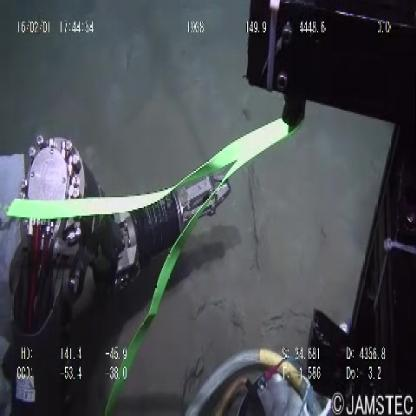Rov: (243, 1, 416, 405), (1, 126, 237, 362)
